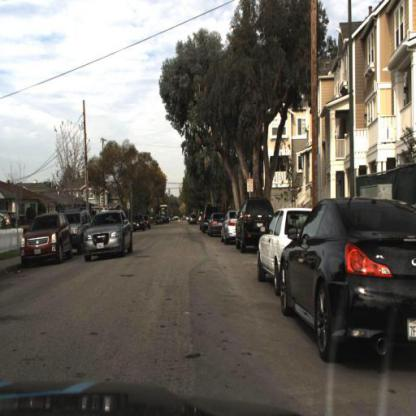car: (282, 197, 416, 368), (256, 204, 316, 295), (78, 206, 135, 266), (21, 210, 74, 272), (234, 198, 277, 258), (222, 207, 248, 252), (91, 210, 120, 247), (187, 213, 199, 226), (155, 215, 165, 227)
truck: (160, 203, 169, 223)
